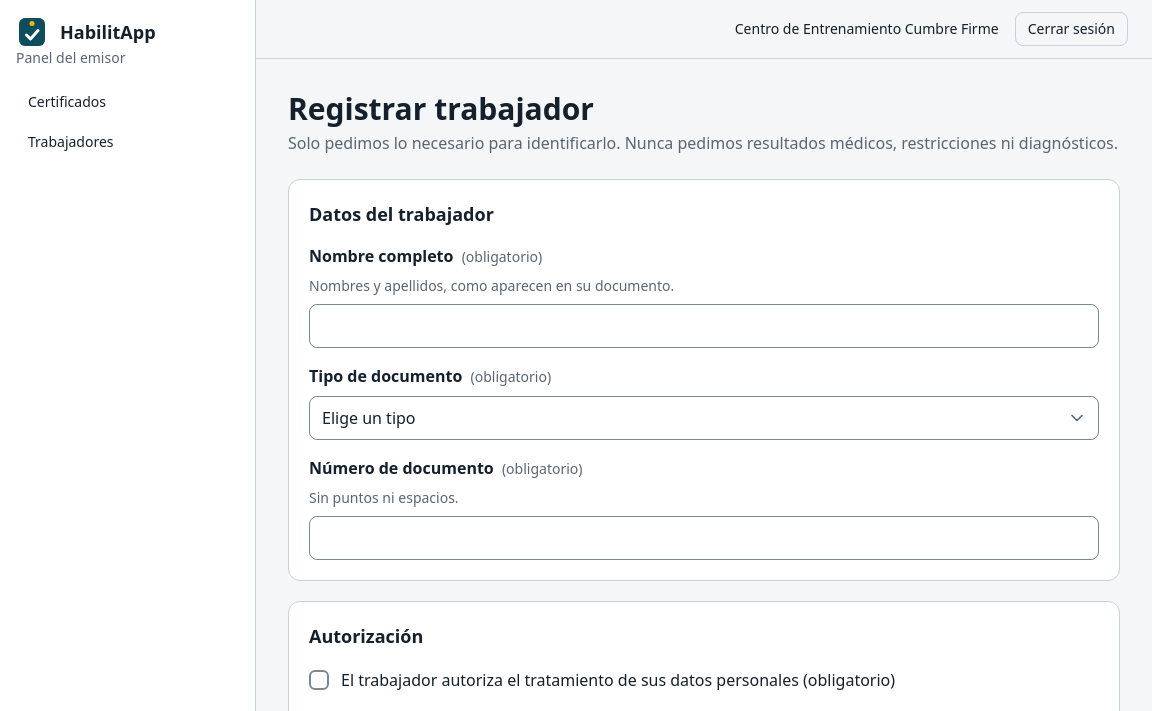
Test: RegisterWorkerPage › registers the worker through the API and goes back to the entity flow
Type "Marta Lucía Gómez Ríos" into the field labelled "Nombre completo (obligatorio)" at (704, 326), box [309,304,1099,348]
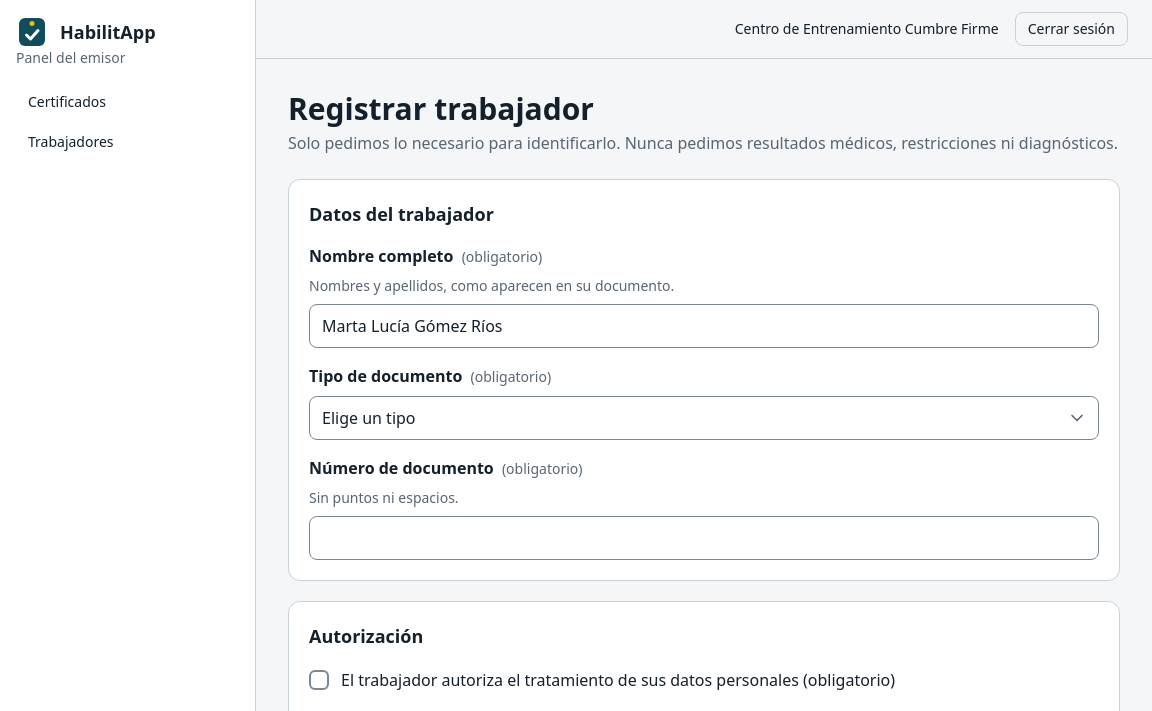
Select "Cédula de ciudadanía" in the dropdown labelled "Tipo de documento (obligatorio)" at (704, 418), box [309,396,1099,440]
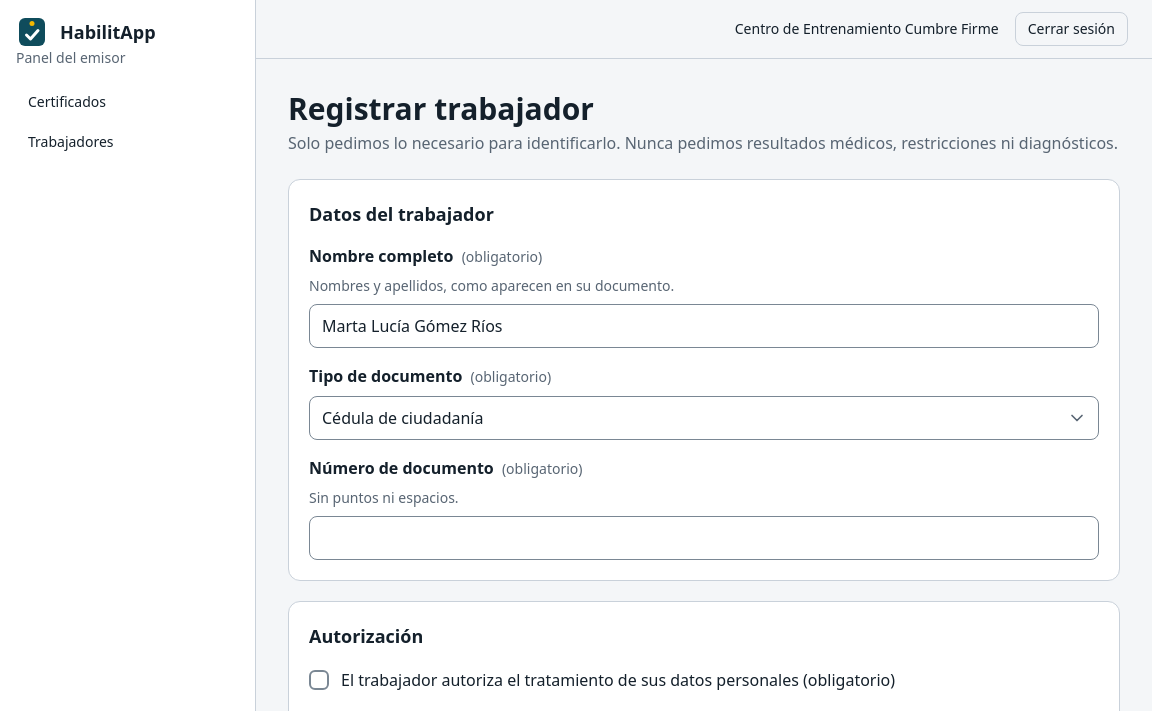
Type "1037456789" into the field labelled "Número de documento (obligatorio)" at (704, 538), box [309,516,1099,560]
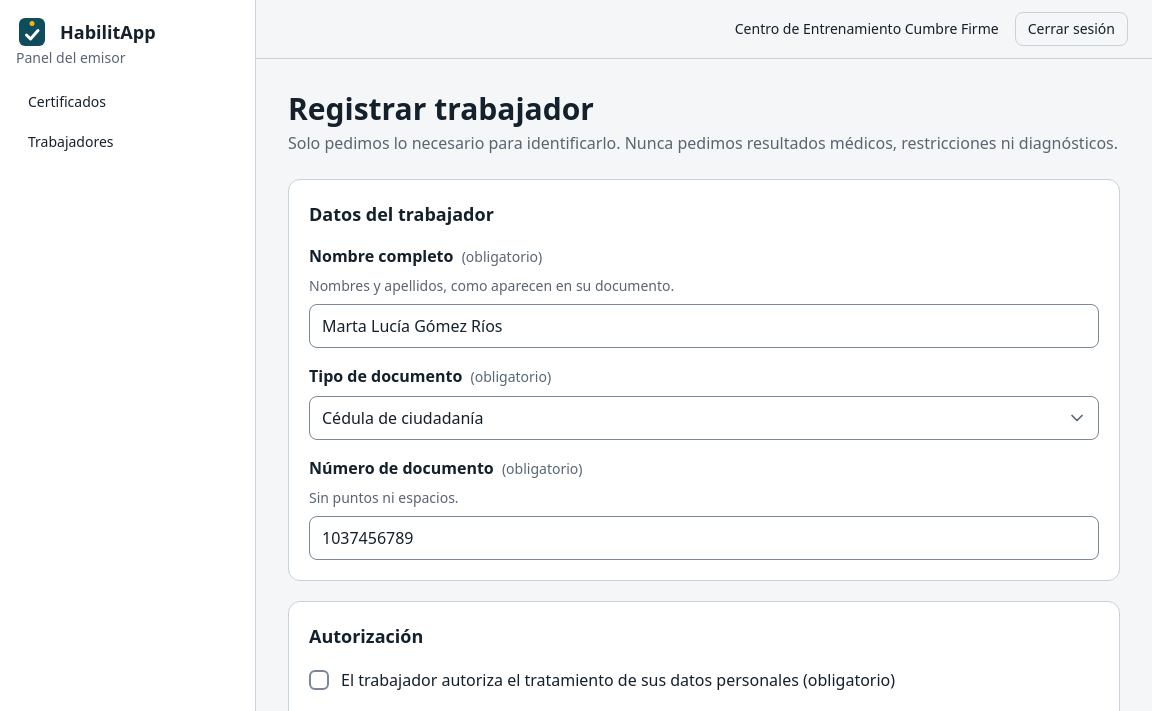
Click the checkbox labelled "autoriza el tratamiento" at (319, 680), box [309,670,329,690]
(page scrolled)
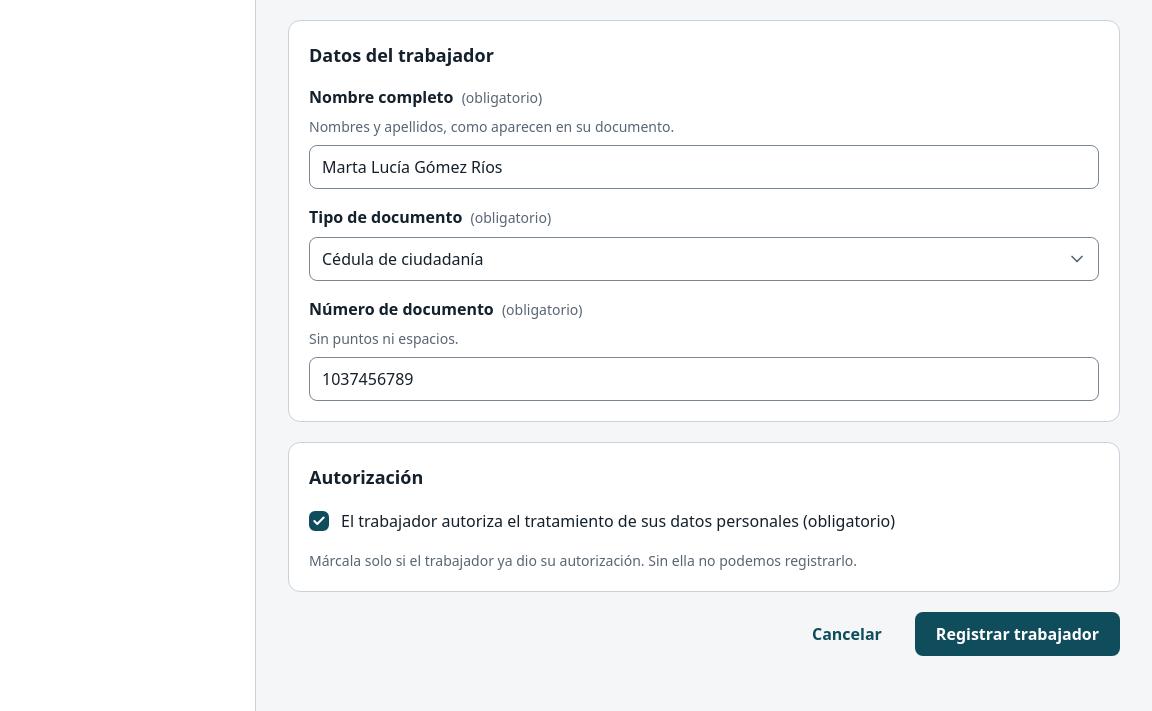
Click the button "Registrar trabajador" at (1017, 634), box [915,612,1120,656]
(page scrolled)
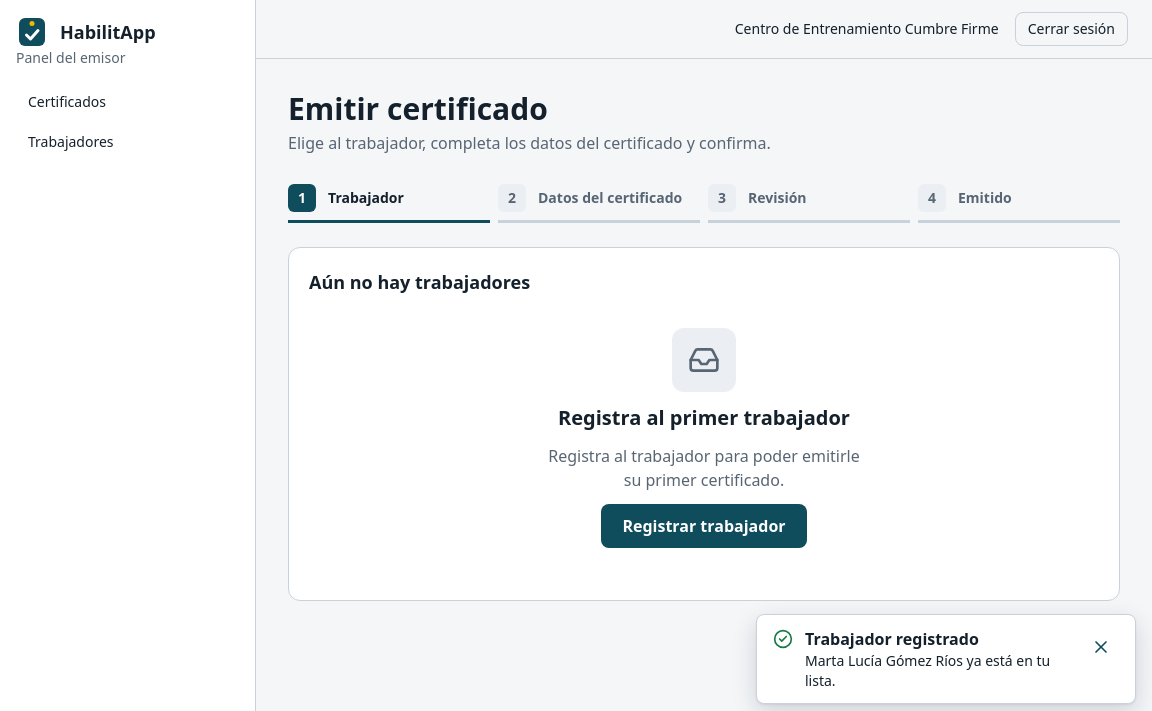
Result: the text "Trabajador registrado" is shown at [805,628,979,650]
